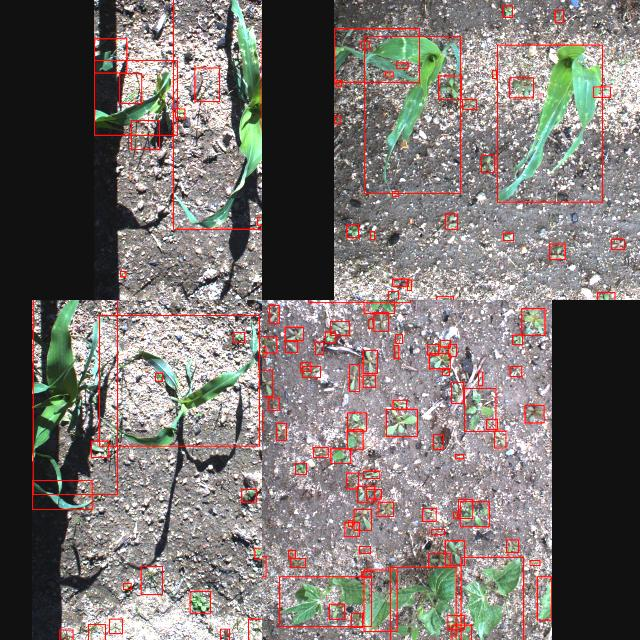crop: (98, 316, 260, 446), (172, 0, 262, 228), (32, 300, 117, 494), (498, 45, 602, 202), (364, 36, 461, 194), (94, 61, 178, 136), (460, 557, 523, 640), (390, 567, 456, 640), (333, 28, 419, 82), (279, 577, 371, 627), (364, 570, 396, 630), (32, 480, 92, 510), (94, 39, 126, 73), (536, 576, 552, 620)
weed: (464, 388, 496, 432), (194, 68, 220, 102), (387, 409, 418, 437), (131, 120, 159, 150), (460, 502, 490, 526), (522, 308, 546, 336), (119, 74, 141, 104), (140, 566, 162, 594), (438, 76, 462, 100), (445, 540, 465, 566), (509, 78, 533, 98), (190, 591, 210, 613), (364, 300, 394, 313), (362, 351, 378, 374), (346, 413, 366, 431), (354, 510, 372, 530), (91, 440, 109, 458), (526, 405, 544, 423), (331, 448, 351, 464), (347, 430, 363, 450), (452, 624, 472, 640), (428, 553, 450, 567), (458, 499, 474, 518), (248, 619, 262, 640), (87, 623, 104, 640), (357, 486, 375, 502), (330, 322, 350, 336), (349, 364, 359, 392), (284, 327, 304, 341), (430, 354, 450, 368), (374, 313, 388, 332), (448, 614, 464, 630), (328, 604, 344, 620), (452, 382, 464, 403), (262, 369, 271, 396), (550, 244, 564, 260), (378, 502, 394, 516), (262, 337, 276, 353), (344, 523, 360, 537), (494, 430, 506, 448), (269, 304, 279, 324), (302, 367, 320, 378), (362, 374, 376, 388), (422, 508, 436, 522), (445, 214, 457, 230), (482, 156, 494, 172), (110, 618, 122, 634), (346, 473, 358, 489), (276, 424, 286, 441), (242, 490, 256, 502), (506, 540, 520, 552), (594, 87, 610, 97), (312, 447, 328, 457), (433, 434, 443, 450), (290, 558, 306, 568), (346, 225, 358, 238), (462, 100, 476, 110), (366, 489, 380, 499), (393, 400, 407, 410), (352, 613, 362, 627), (597, 292, 614, 300), (59, 630, 72, 640), (392, 278, 408, 286), (364, 471, 380, 479), (554, 10, 564, 22), (612, 239, 624, 249), (268, 398, 278, 410), (324, 332, 336, 342), (510, 366, 522, 376), (285, 342, 297, 352), (428, 344, 438, 356), (233, 332, 244, 342), (220, 629, 230, 640), (487, 419, 498, 429), (503, 6, 513, 16), (296, 464, 306, 474), (513, 335, 523, 345), (300, 362, 310, 372), (387, 291, 398, 300), (315, 342, 323, 354), (449, 344, 457, 356), (175, 109, 185, 118), (255, 548, 262, 560), (478, 372, 484, 386), (503, 233, 513, 241), (440, 340, 450, 348), (360, 546, 370, 554), (396, 62, 408, 68), (436, 296, 453, 300), (288, 550, 296, 558), (262, 555, 265, 576), (406, 280, 412, 290), (362, 571, 372, 577), (530, 560, 540, 566), (396, 334, 402, 344), (394, 345, 398, 359), (334, 116, 340, 124), (361, 42, 369, 48), (123, 584, 131, 590), (156, 373, 162, 381), (368, 320, 374, 328), (456, 454, 464, 460), (442, 369, 450, 375), (432, 530, 444, 534), (257, 217, 262, 225), (370, 230, 374, 240), (335, 80, 341, 86), (385, 72, 393, 76), (492, 70, 496, 78), (120, 272, 126, 276), (392, 192, 398, 196), (453, 512, 457, 518), (348, 520, 352, 526)
